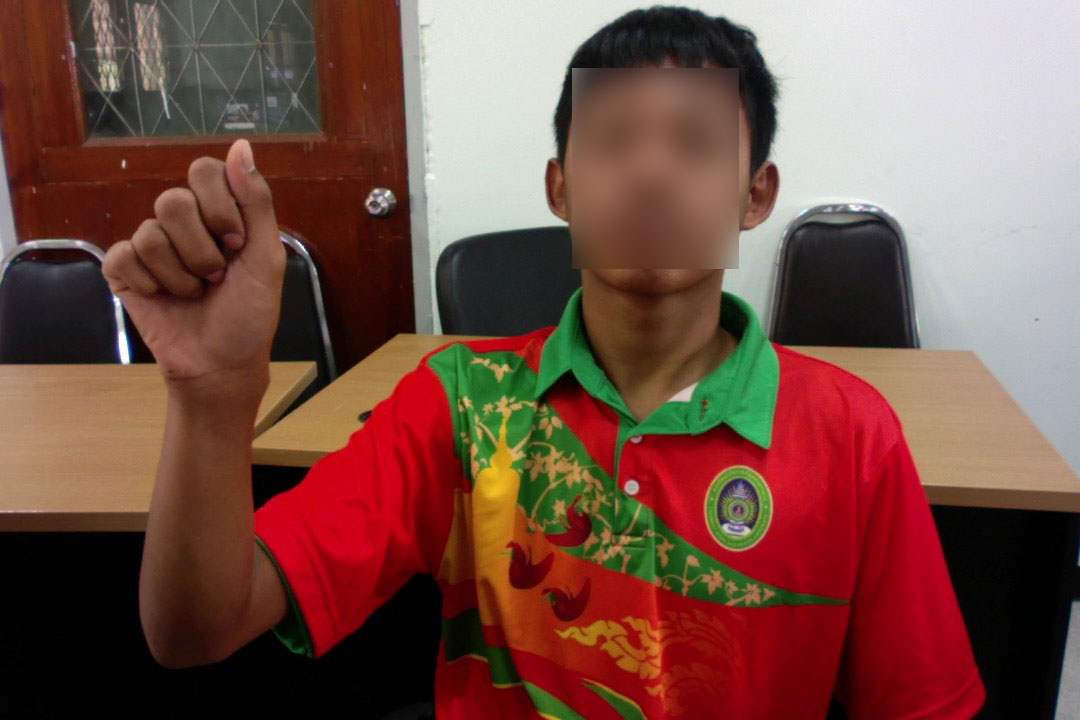or: (96, 136, 292, 394)
